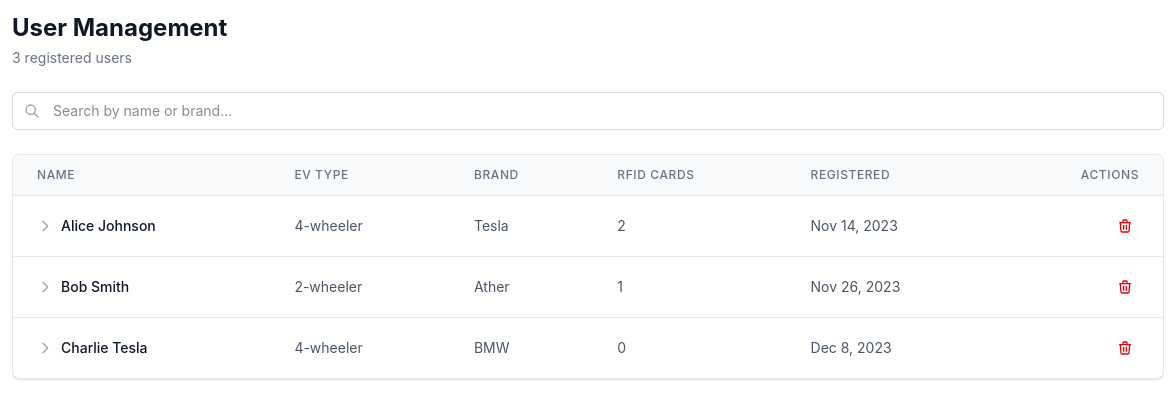
UserManagementPage › Search filtering › filters users by name in real time
Expected: the text "Alice Johnson" is shown, [37, 217, 156, 234]
Step 1. Type "alice" into the field with placeholder "Search by name or brand..." → (588, 111), box [12, 92, 1164, 130]
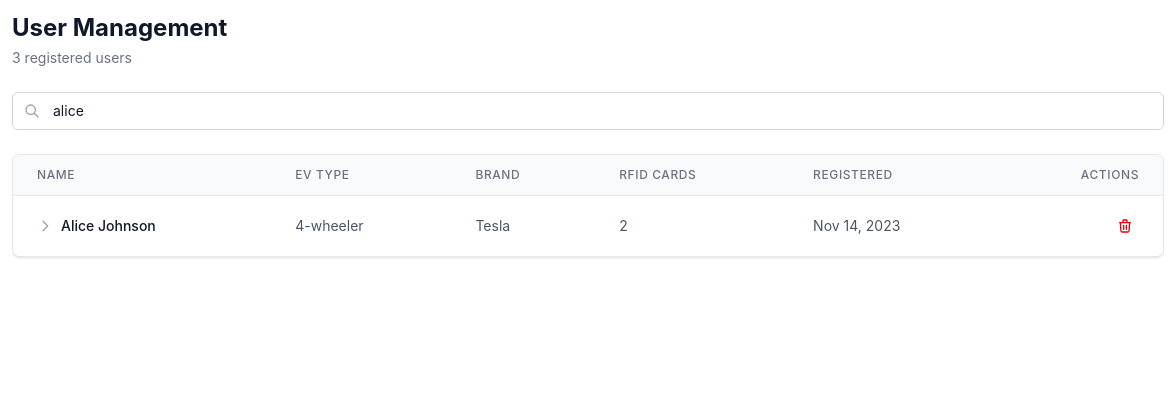
Expected: the text "Alice Johnson" is shown, [37, 217, 156, 234]
Now the text "Bob Smith" is gone
Now the text "Charlie Tesla" is gone
